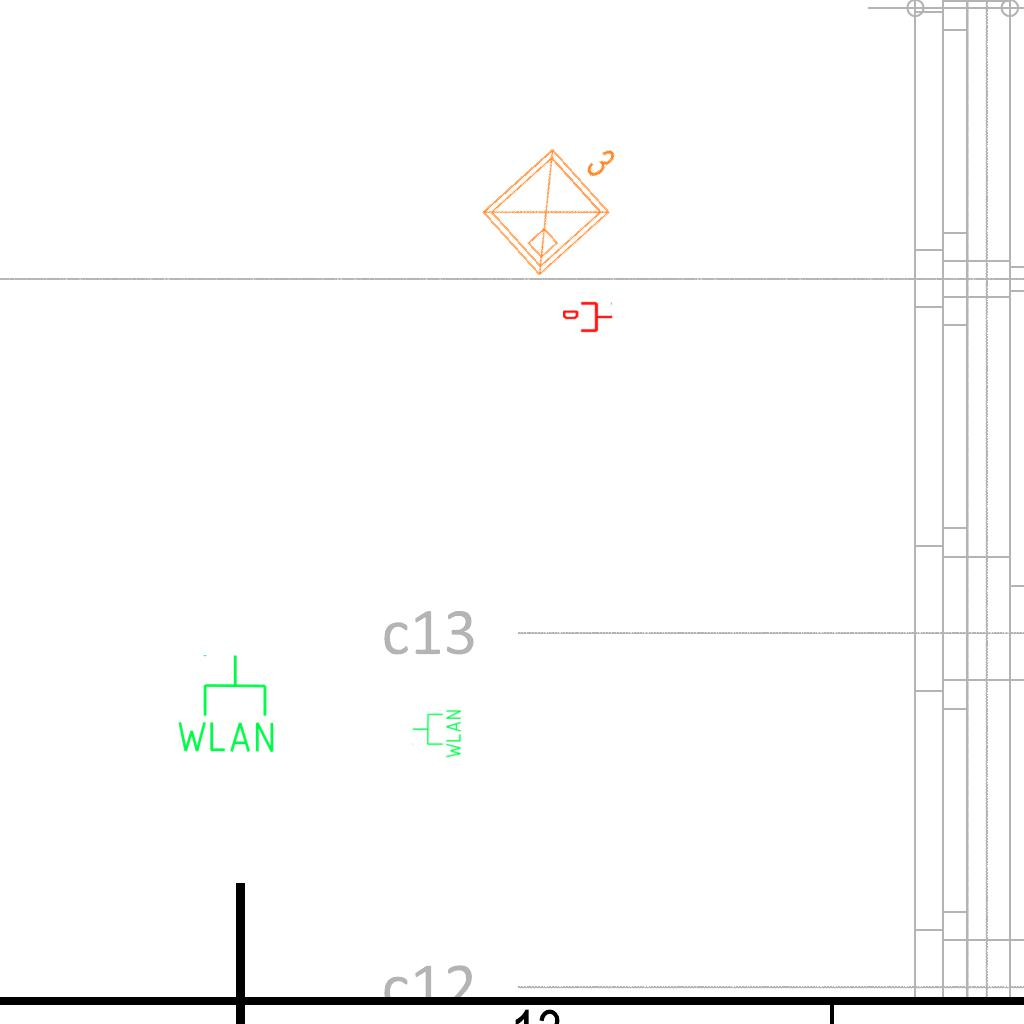Datenanschluss_einfach: (562, 299, 614, 335)
Einbaudownlights_LED_Konferenzraeume: (469, 108, 651, 286)
WLAN: (173, 652, 278, 756), (411, 708, 463, 760)
